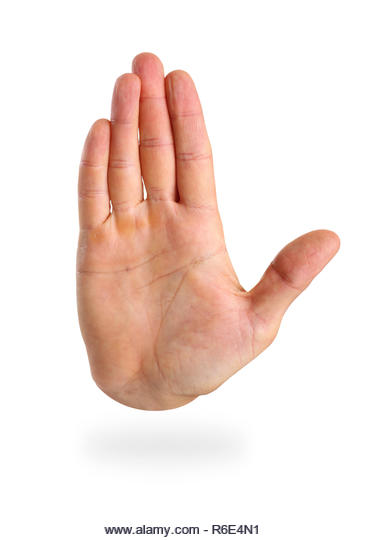hand: (41, 45, 352, 431)
